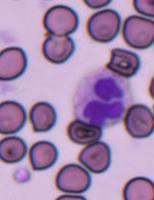N: (72, 69, 130, 127)
